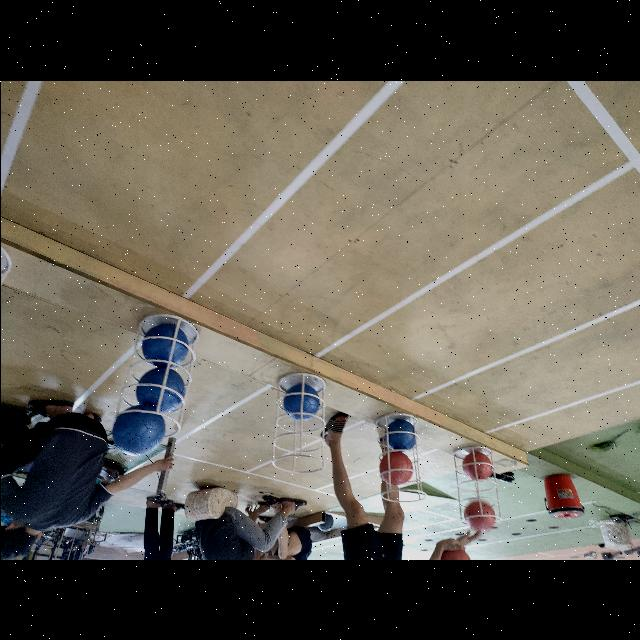B: (110, 406, 164, 454), (141, 323, 187, 367), (136, 368, 184, 410), (282, 383, 318, 421), (384, 419, 416, 451)
R: (378, 450, 412, 486), (461, 452, 491, 482)
